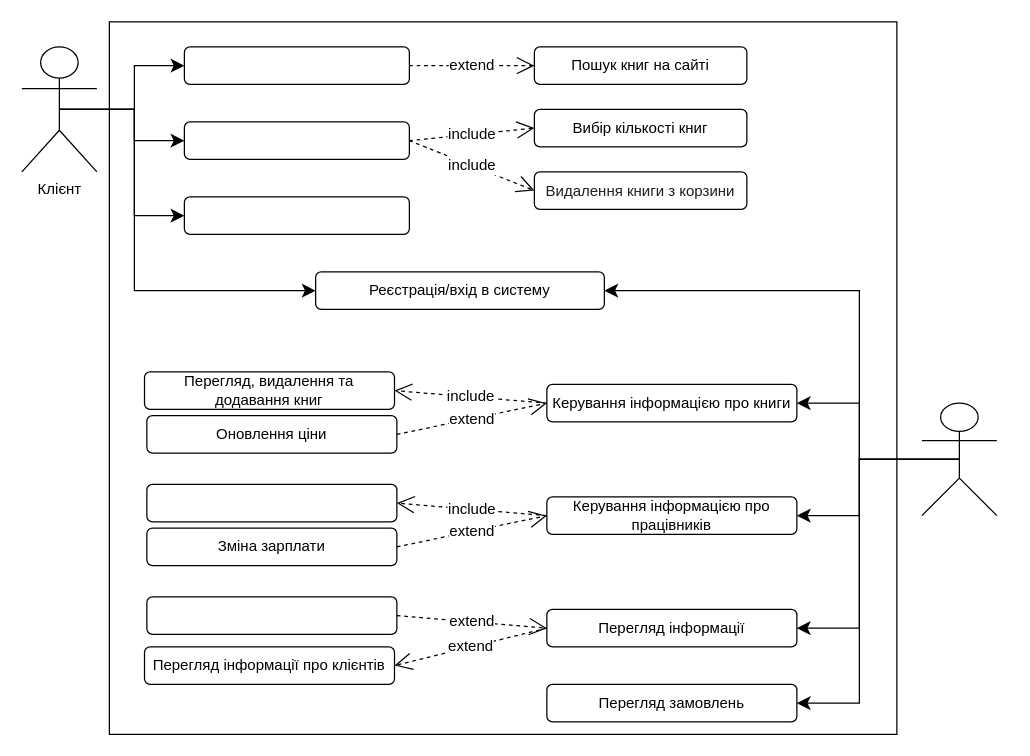
Some shapes in this 1030 by 756 pixel diagram are drawn without their labels. The shapes that lost their labels are listed below. From the top down, each one's box as (x1, y1, x2, y2) in pixels, then its label:
(183, 46, 409, 84): Перегляд каталогу книг
(183, 121, 409, 159): Додавання книги до корзини
(183, 196, 409, 234): Перегляд особистого профілю
(921, 402, 997, 516): Адміністратор
(146, 483, 397, 522): Перегляд, видалення та додавання працівників
(146, 596, 397, 634): Перегляд статистичної інформації
